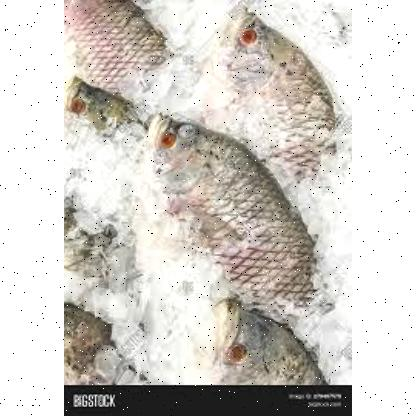gurame: (140, 107, 320, 301), (212, 4, 350, 190)
